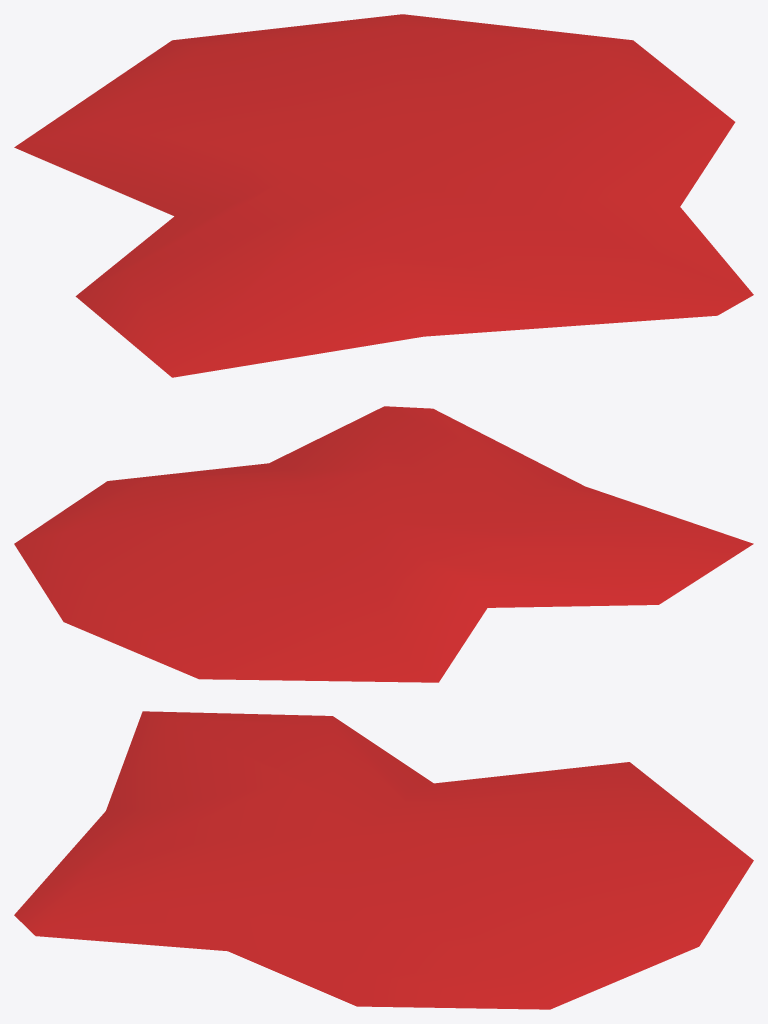
Rendered from BloodGround02.fbx.
3 renders of one model, top to bottom at view 1: azimuth 30°, elevation 25°; view 2: azimuth 150°, elevation 25°; view 3: azimuth 270°, elevation 25°, orthographic. The views are drawn at different scales.
Visible parts, largest first — view 1: Sphère_1; view 2: Sphère_1; view 3: Sphère_1.
Boxes of the visible parts, box(x1,y1,x2,y2) form: Sphère_1: box(14, 14, 753, 377); Sphère_1: box(14, 406, 753, 682); Sphère_1: box(14, 711, 753, 1009).
Size of the model in its own units: 51.96 by 2 by 54.47.
